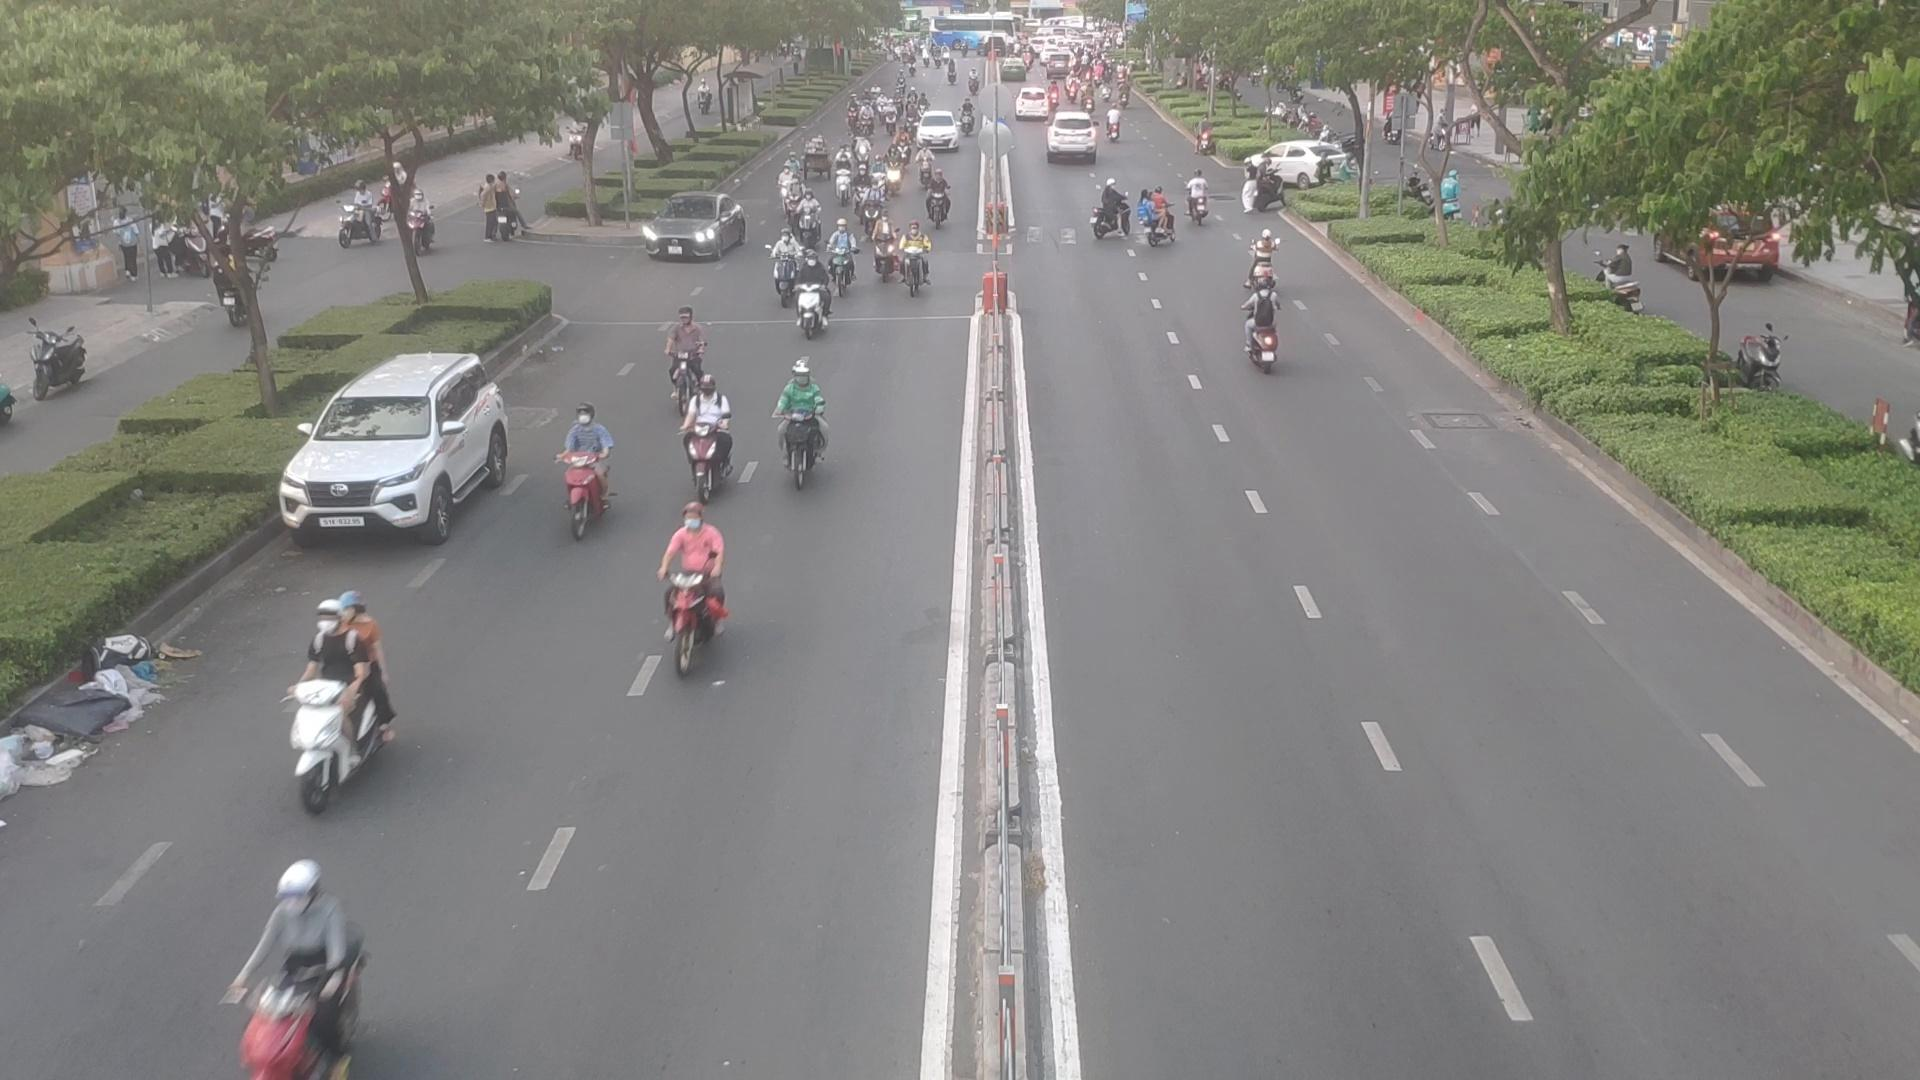car: (280, 353, 516, 549), (636, 194, 749, 262), (1250, 142, 1356, 193), (1044, 117, 1096, 166)
motorbike: (228, 860, 377, 1080), (287, 593, 394, 833), (657, 495, 740, 678), (783, 361, 836, 491), (564, 404, 612, 531), (659, 306, 707, 414), (694, 377, 735, 492), (1237, 286, 1279, 369), (1087, 179, 1130, 244), (774, 229, 806, 305), (918, 171, 952, 233), (905, 222, 932, 298), (1143, 189, 1175, 251), (800, 248, 825, 323), (833, 218, 853, 297), (1250, 229, 1274, 289), (1182, 175, 1211, 222), (876, 208, 891, 291), (800, 187, 820, 248), (866, 178, 884, 225), (831, 160, 849, 196), (916, 145, 934, 185), (790, 175, 800, 231), (899, 125, 913, 164), (887, 148, 901, 182), (853, 175, 864, 211), (782, 167, 789, 218), (856, 135, 866, 164)
